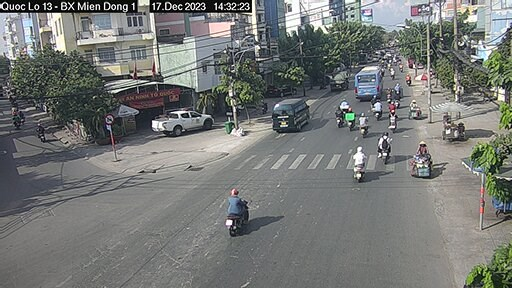bus: (355, 66, 384, 99)
car: (150, 108, 214, 135), (274, 98, 309, 134)
motorbike: (222, 189, 252, 233), (375, 133, 392, 164), (354, 151, 367, 181)
